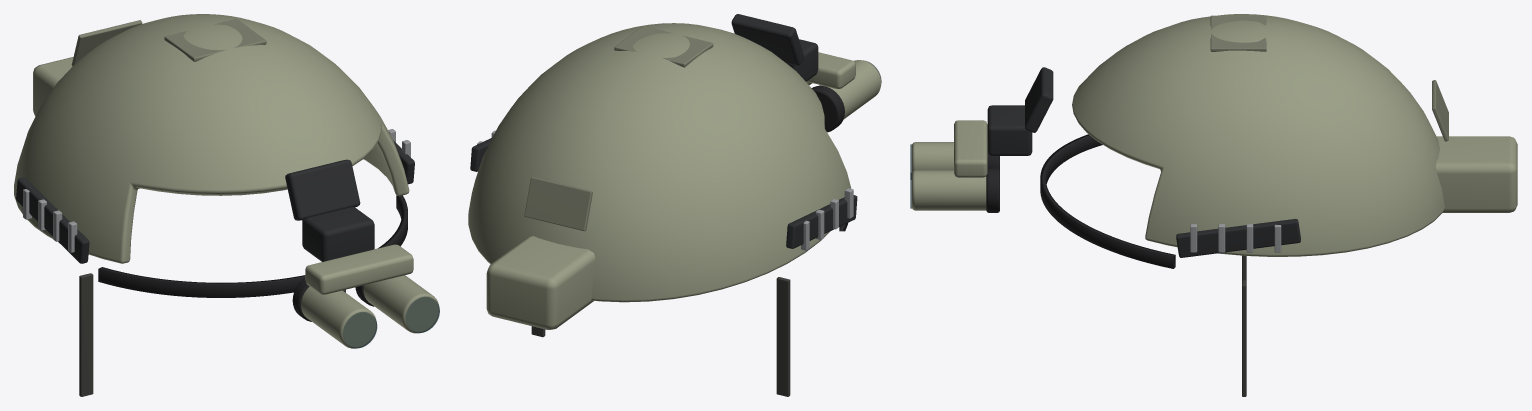
The model's file is helmet_nvg_T.glb.
3 renders of one model, left to right at view 1: azimuth 30°, elevation 25°; view 2: azimuth 150°, elevation 25°; view 3: azimuth 270°, elevation 25°, orthographic. The views are drawn at different scales.
Parts seen in each view (by area): view 1: helmet@Head; view 2: helmet@Head; view 3: helmet@Head.
Boxes of the visible parts, <box> form: helmet@Head: <box>14,14,439,396</box>; helmet@Head: <box>468,14,881,396</box>; helmet@Head: <box>910,14,1517,396</box>.
Size of the model in its own units: 0.3261 by 0.3025 by 0.5421.
